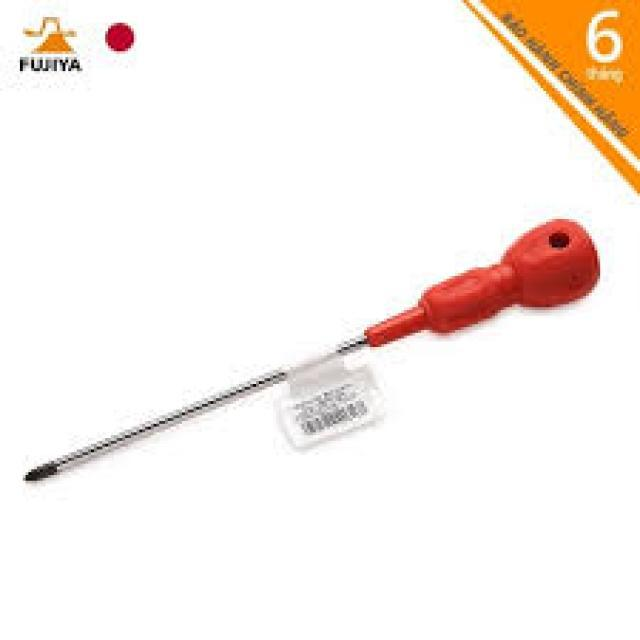screwdriver: (18, 212, 604, 485)
